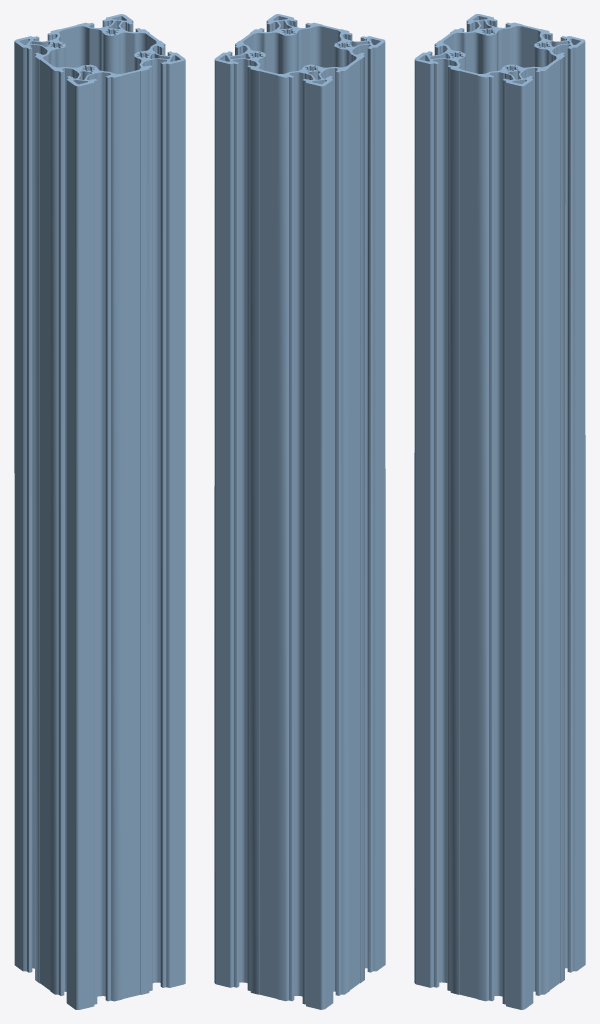
Rendered from ST_EXT_005_0720.gltf.
3 views of the same model, side by side, from view 1: azimuth 30°, elevation 25°; view 2: azimuth 150°, elevation 25°; view 3: azimuth 330°, elevation 25° (orthographic).
Size of the model in its own units: 0.09 by 0.72 by 0.09.
